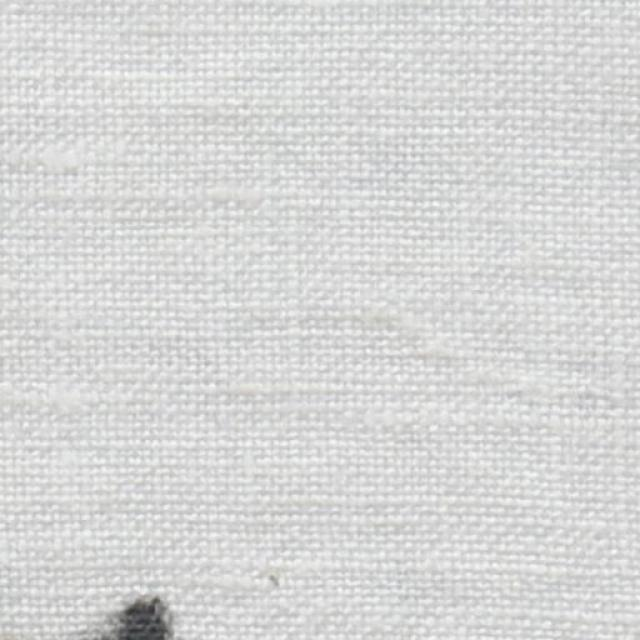Stain: (70, 595, 188, 640)
